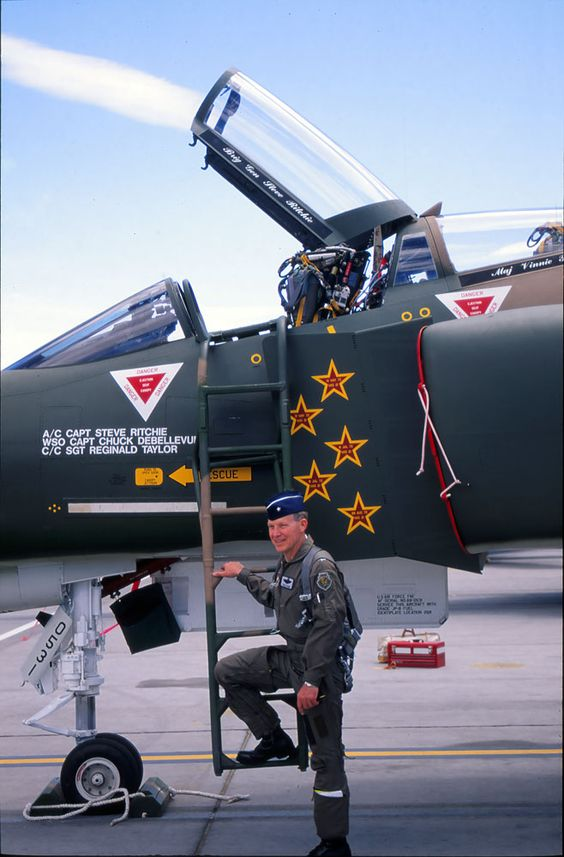F4: (1, 64, 564, 815)
